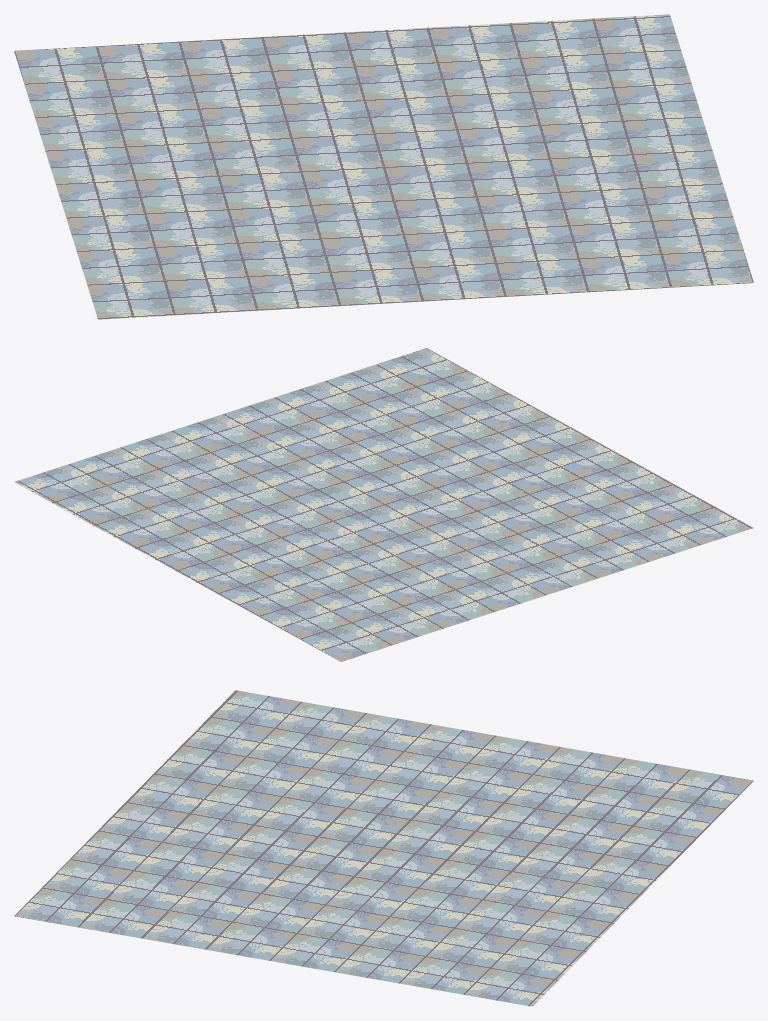
Rendered from kd_stage_136282_3_33_bounded.glb.
The picture shows the model from 3 angles, top to bottom: view 1: azimuth 30°, elevation 25°; view 2: azimuth 150°, elevation 25°; view 3: azimuth 270°, elevation 25°; orthographic projection. The views are drawn at different scales.
Visible parts, largest first — view 1: kd_stage_136282_3_33_bounded; view 2: kd_stage_136282_3_33_bounded; view 3: kd_stage_136282_3_33_bounded.
Part boxes in pixels (x1,y1,x2,y2): kd_stage_136282_3_33_bounded: (14,14,753,319); kd_stage_136282_3_33_bounded: (14,348,753,661); kd_stage_136282_3_33_bounded: (14,690,753,1006).
Bounding box in the file's own units: 4.65 × 0.000541 × 4.59.
1 material, 1 textured.
